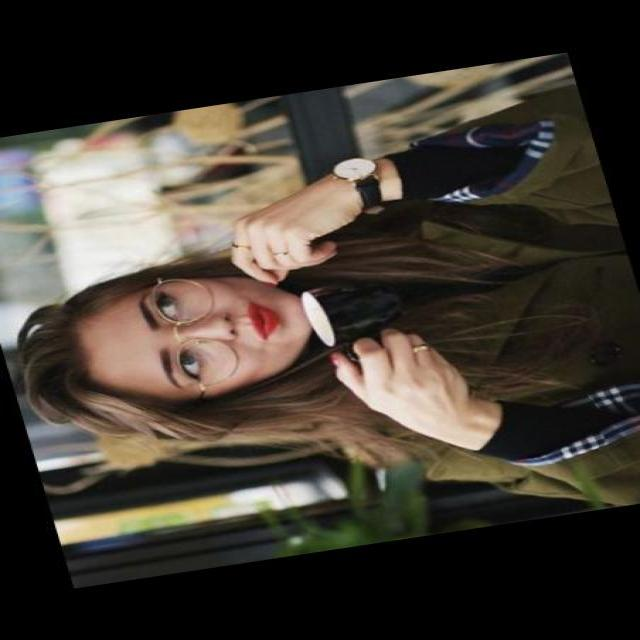glasses: (144, 272, 245, 402)
